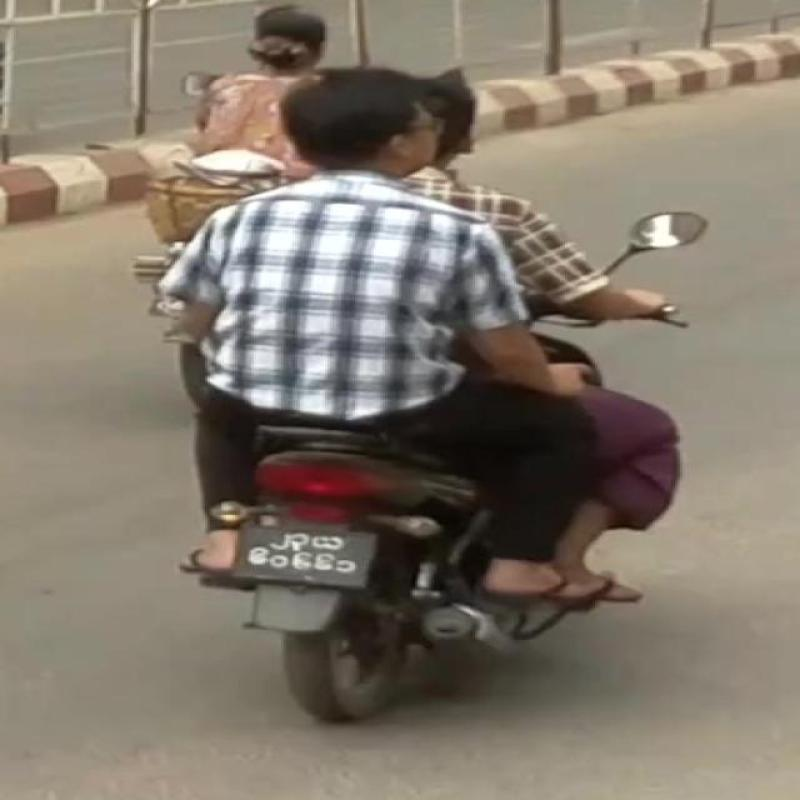nohelmet: (268, 66, 472, 165)
